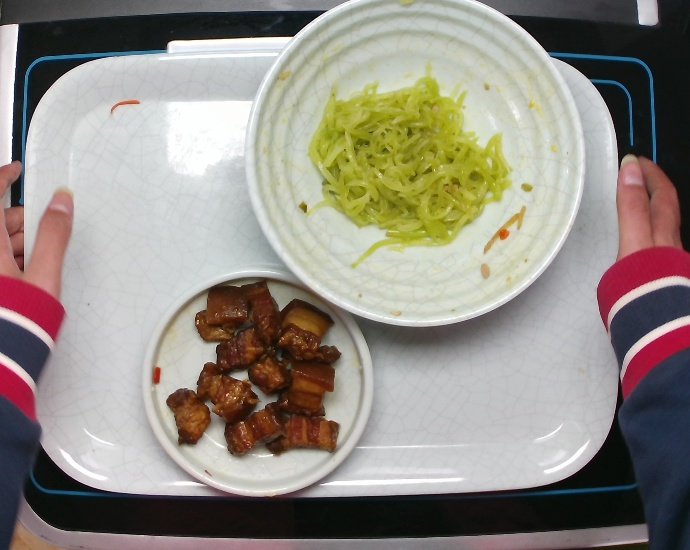JYsf-Da_Tang_Wan: (239, 1, 598, 326)
JYsf-Xiao_Yuan_Pan: (138, 263, 382, 510)
